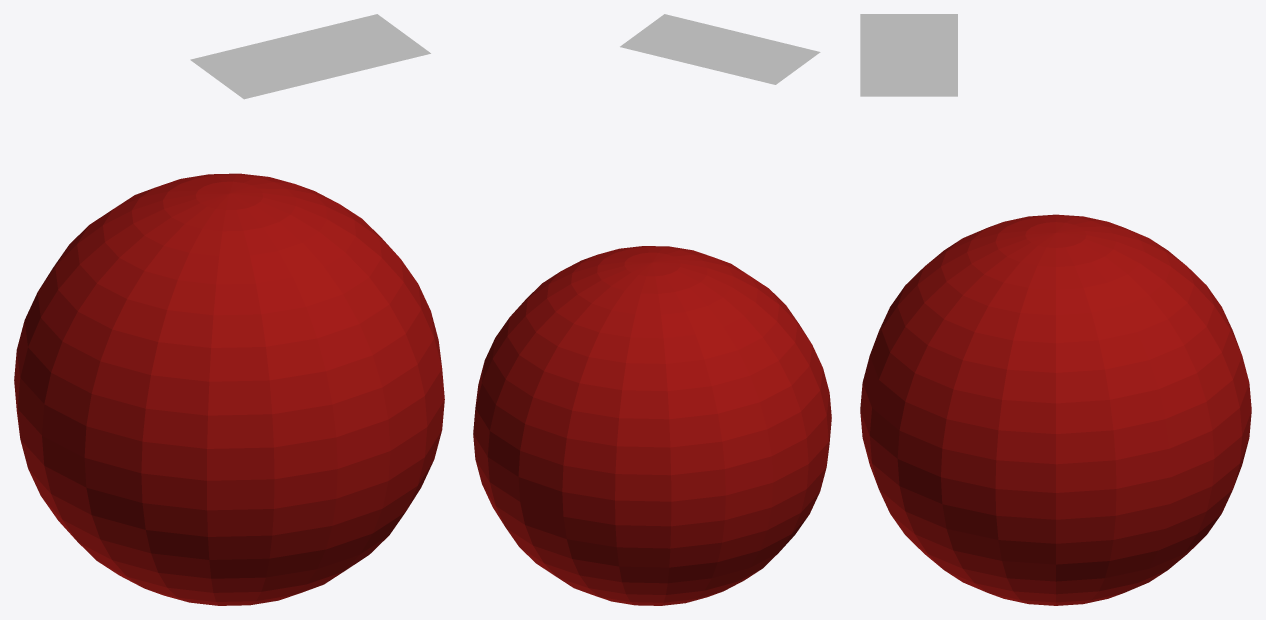
The picture shows the model from 3 angles, left to right: view 1: azimuth 30°, elevation 25°; view 2: azimuth 150°, elevation 25°; view 3: azimuth 270°, elevation 25°; orthographic projection. The views are drawn at different scales.
Parts seen in each view (by area): view 1: Sphere, light; view 2: Sphere, light; view 3: Sphere, light.
Part boxes in pixels (x1,y1,x2,y2): Sphere: (14,173,444,605); light: (190,14,430,99); Sphere: (473,246,831,605); light: (620,14,820,84); Sphere: (860,214,1251,605); light: (860,14,957,96).
Bounding box in the file's own units: 4 × 6 × 4.
